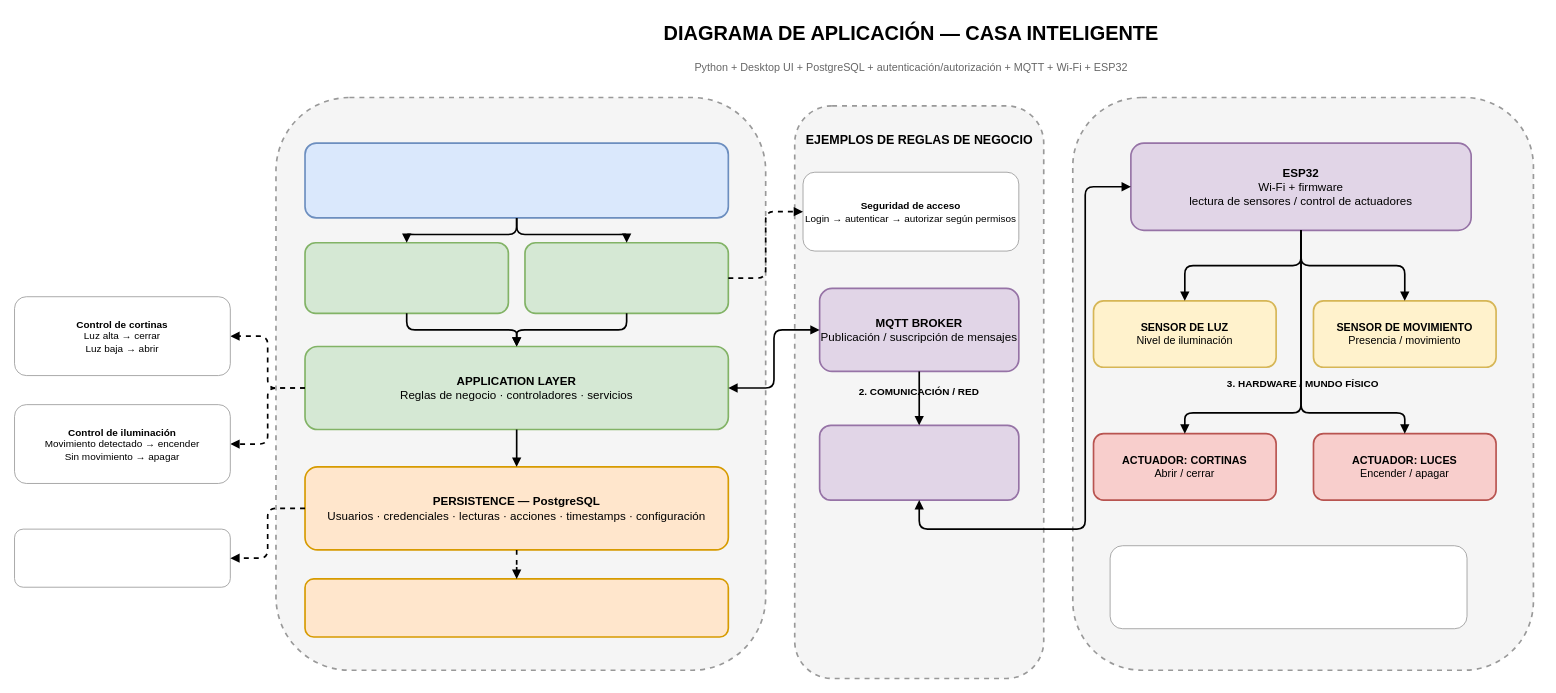
Some shapes in this 1556 by 693 pixel diagram are drawn without their labels. The centre of each missing label's shape, as x and y in pixels:
"AUTHENTICATION SERVICE Verifica identidad · credenciales" goes at (x=406, y=278).
"AUTHORIZATION SERVICE Roles · permisos · acceso a funciones" goes at (x=626, y=278).
"DESKTOP UI Python / PySide6 Login · dashboard · comandos · estado" goes at (x=516, y=180).
"Flujo de datos: Sensor → ESP32 → MQTT → Python Python → MQTT → ESP32 → Actuador" goes at (x=1288, y=587).
"Persistencia Guardar lectura, acción, usuario y timestamp" goes at (x=122, y=557).
"REPOSITORIES UserRepository · SensorRepository · ActionRepository" goes at (x=516, y=607).
"WI-FI Red de comunicación" goes at (x=918, y=462).
